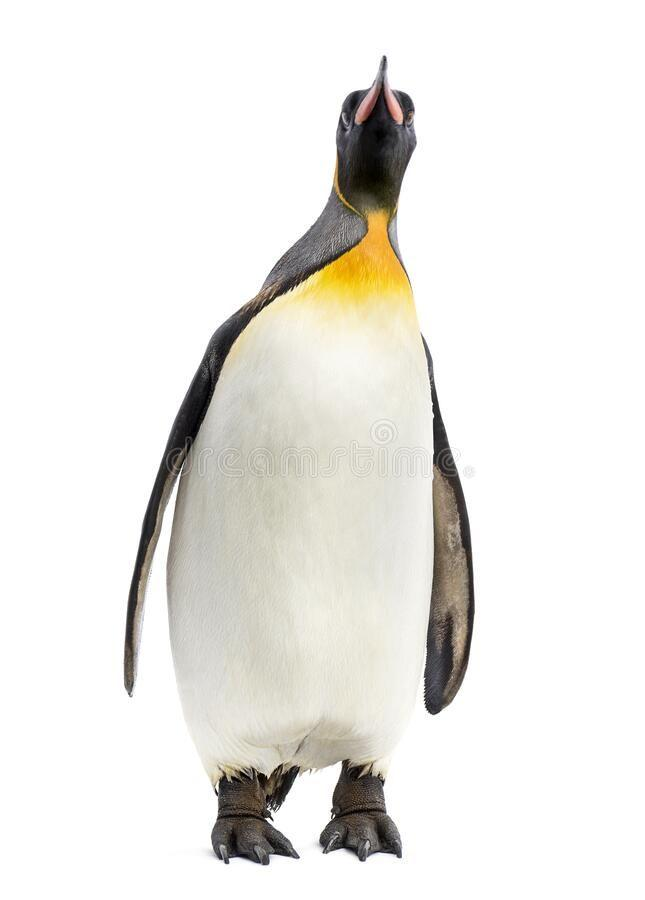emporer: (91, 40, 542, 886)
